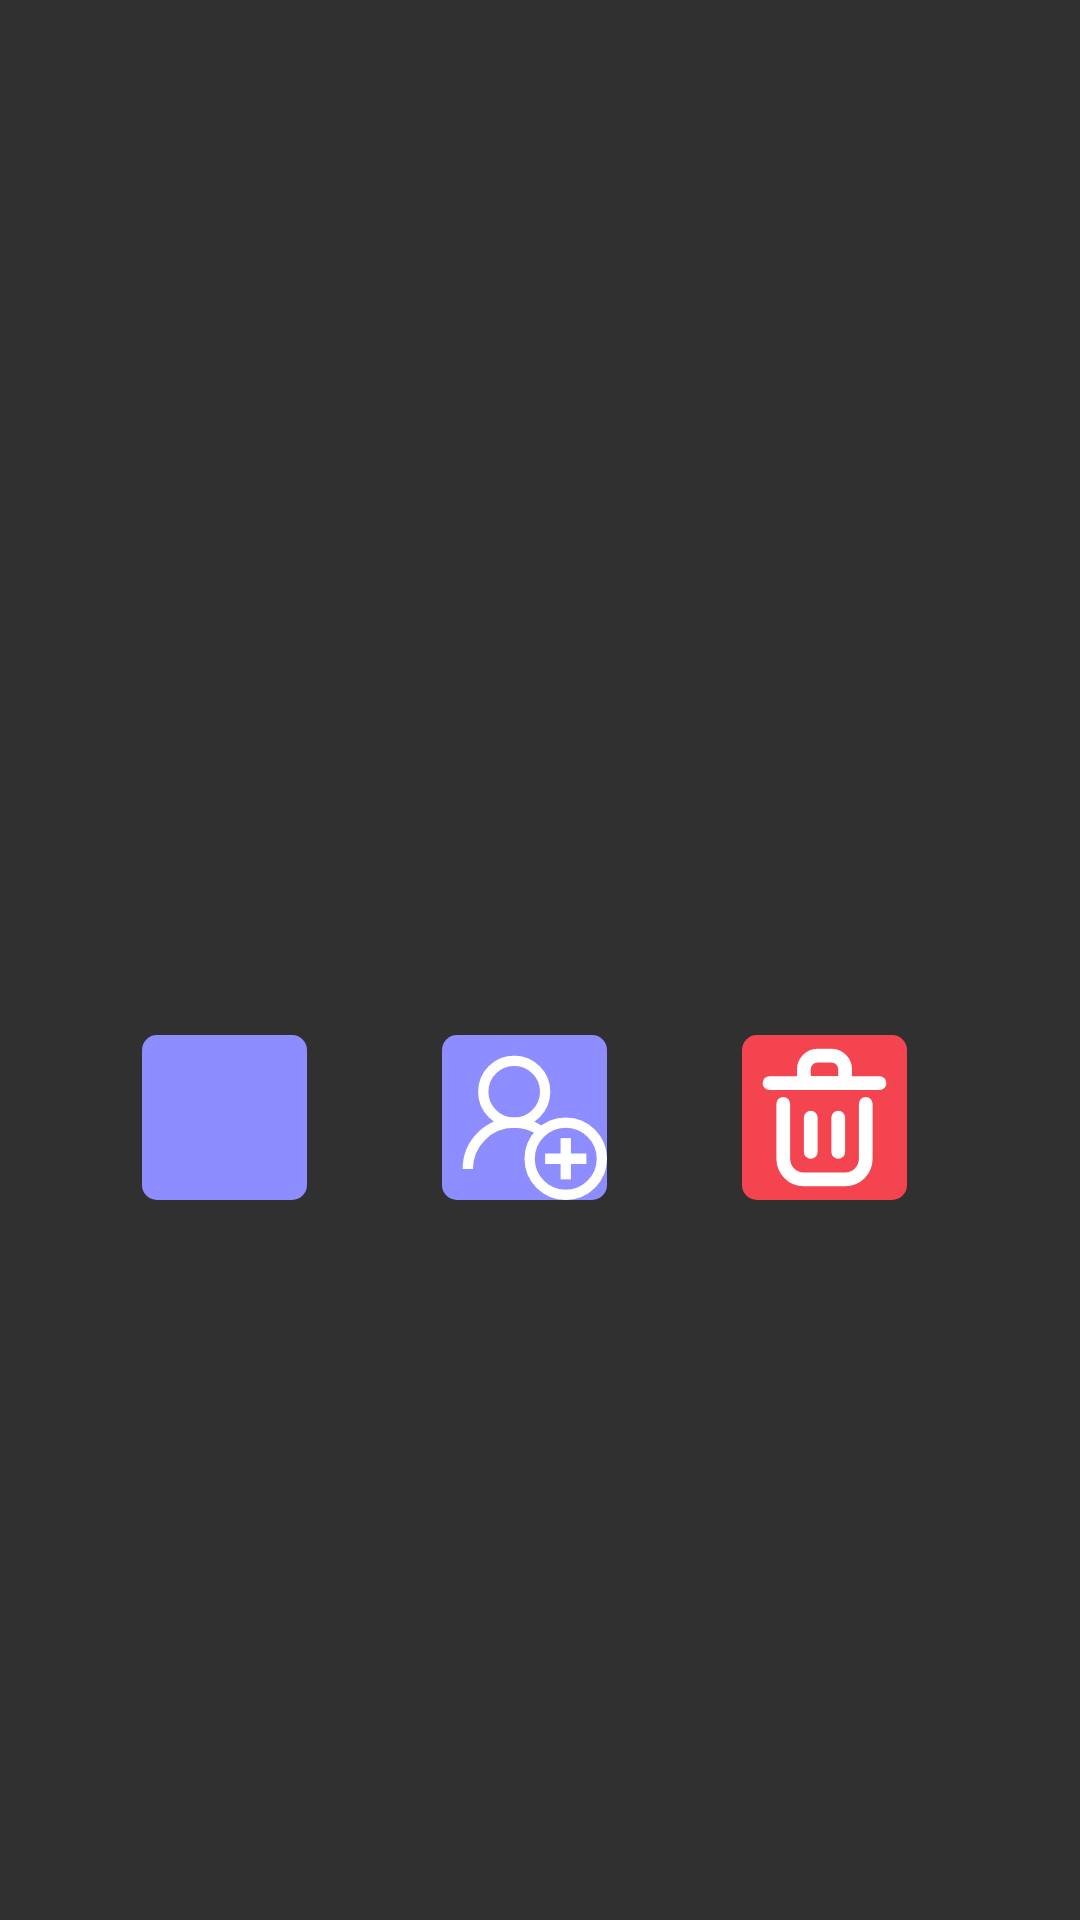

Named icons in this screenshot (1080w x 1920h) and their centers, (x,y):
adduserlist: (524,1117)
deletelist: (824,1117)
